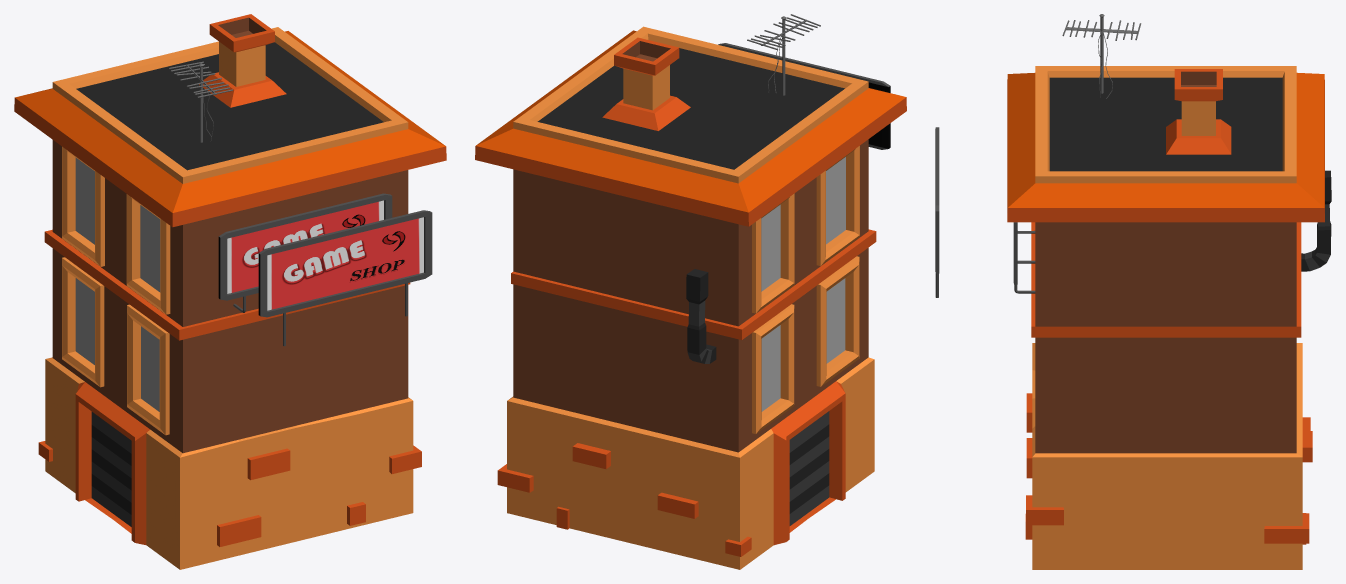
The model's file is Predio1ViniRemakeAna.fbx.
The picture shows the model from 3 angles, left to right: view 1: azimuth 30°, elevation 25°; view 2: azimuth 150°, elevation 25°; view 3: azimuth 270°, elevation 25°; orthographic projection.
Parts seen in each view (by area): view 1: Cube, PlacaLado.001, PlacaLado, AntenaTV; view 2: Cube, PlacaLado.001, AntenaTV; view 3: Cube, AntenaTV, PlacaLado.001, PlacaLado.
Part boxes in pixels (<box>): Cube: <box>14,14,446,569</box>; PlacaLado.001: <box>258,210,432,346</box>; PlacaLado: <box>218,193,392,312</box>; AntenaTV: <box>169,61,232,142</box>; Cube: <box>475,26,906,569</box>; PlacaLado.001: <box>718,43,890,149</box>; AntenaTV: <box>747,14,820,95</box>; Cube: <box>1007,66,1331,569</box>; AntenaTV: <box>1062,14,1141,98</box>; PlacaLado.001: <box>935,127,939,297</box>; PlacaLado: <box>1013,222,1035,293</box>.
Bounding box in the file's own units: 243 × 396 × 303.
